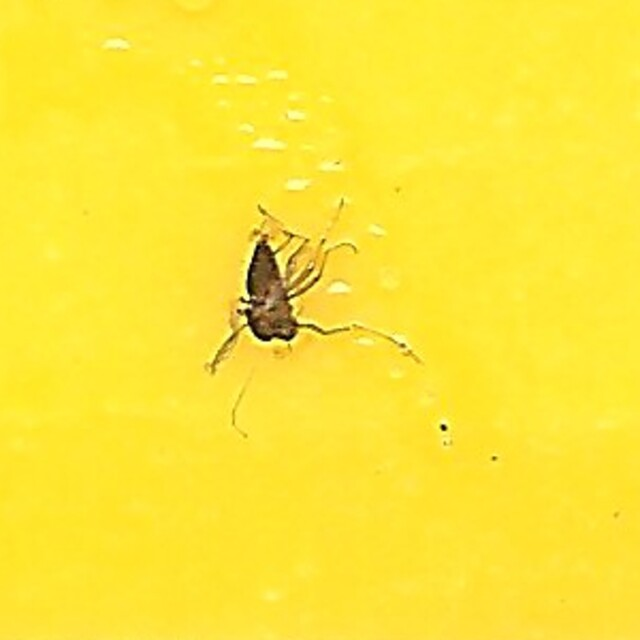Nematocera: (213, 213, 427, 427)
